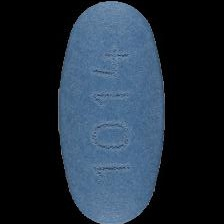16590-320: (0, 0, 224, 224)
